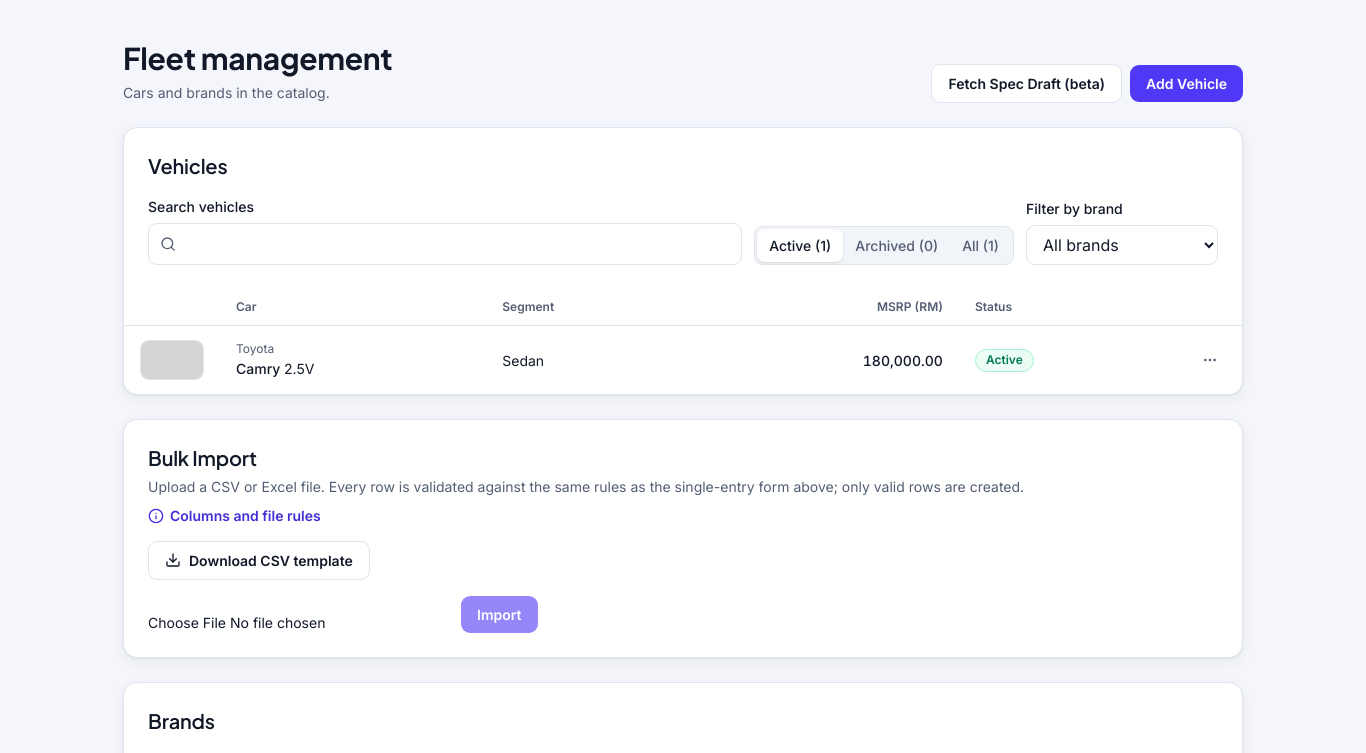
Test: AdminFleetPage › shows the vehicle's subscription plan count in its archive dialog
Click the button named "Actions for Toyota Camry 2.5V" at (1210, 360), box [1194, 344, 1226, 376]
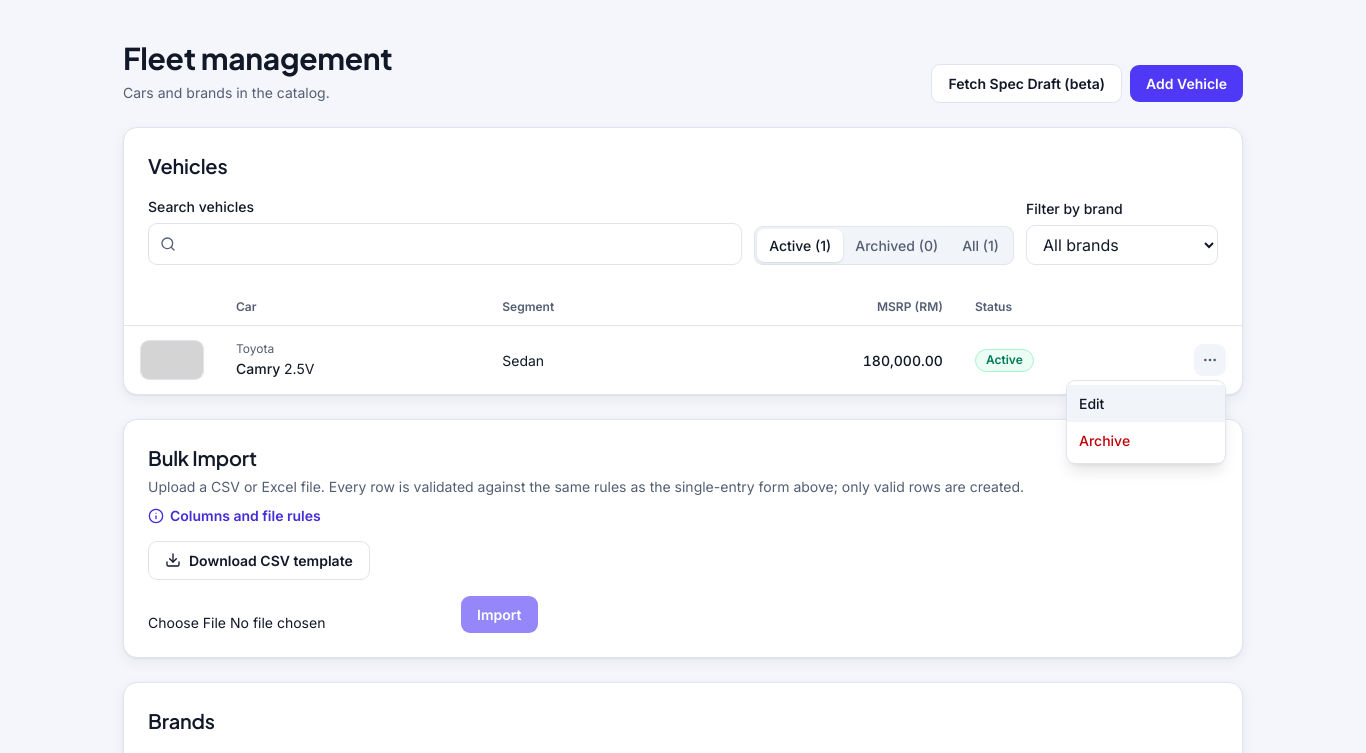
Click the menu item "Archive" at (1146, 441), box [1067, 422, 1225, 459]
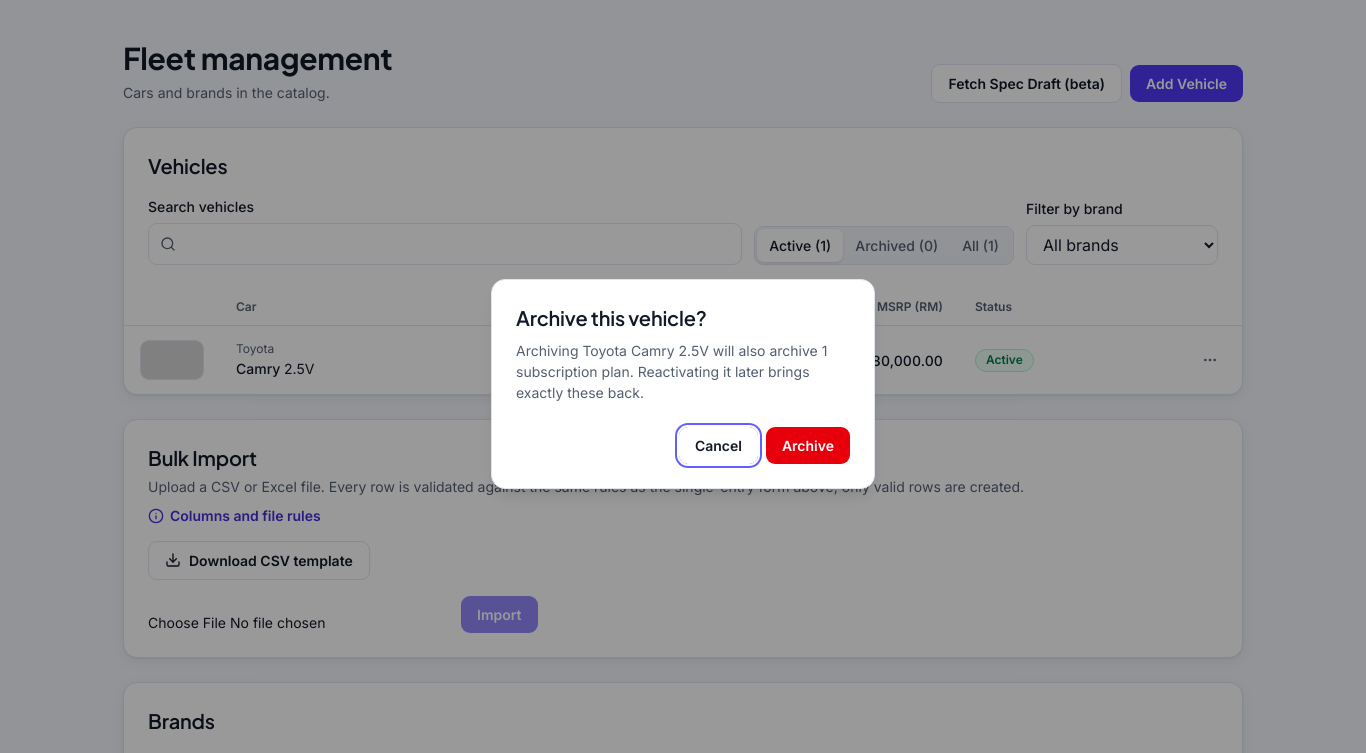
Now the text "Archiving Toyota Camry 2.5V will also archive 1 subscription plan. Reactivating it later brings exactly these back." is shown, box [516, 342, 827, 401]
